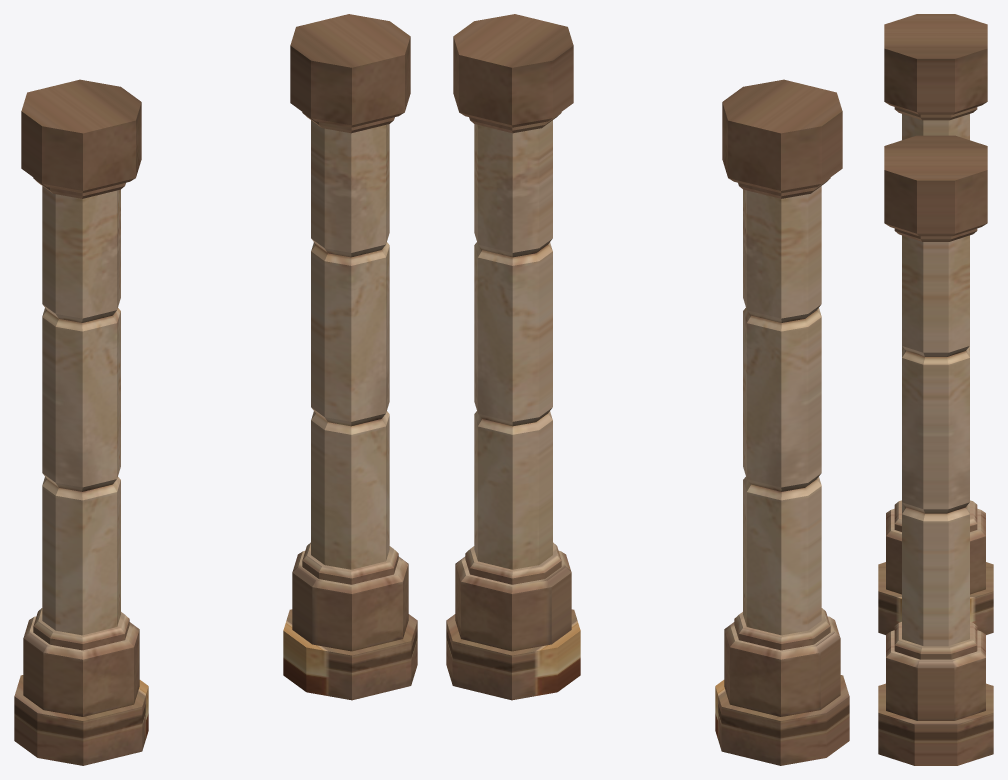
Rendered from Small_Colums_1.glb.
3 views of the same model, side by side, from view 1: azimuth 30°, elevation 25°; view 2: azimuth 150°, elevation 25°; view 3: azimuth 270°, elevation 25° (orthographic). The views are drawn at different scales.
Visible parts, largest first — view 1: Small_Colums_1; view 2: Small_Colums_1; view 3: Small_Colums_1.
Part boxes in pixels (bbox=[...]): Small_Colums_1: bbox=[14, 14, 417, 765]; Small_Colums_1: bbox=[446, 14, 849, 765]; Small_Colums_1: bbox=[878, 14, 993, 765].
Size of the model in its own units: 14.08 by 22.27 by 4.01.
1 material, 1 textured.
